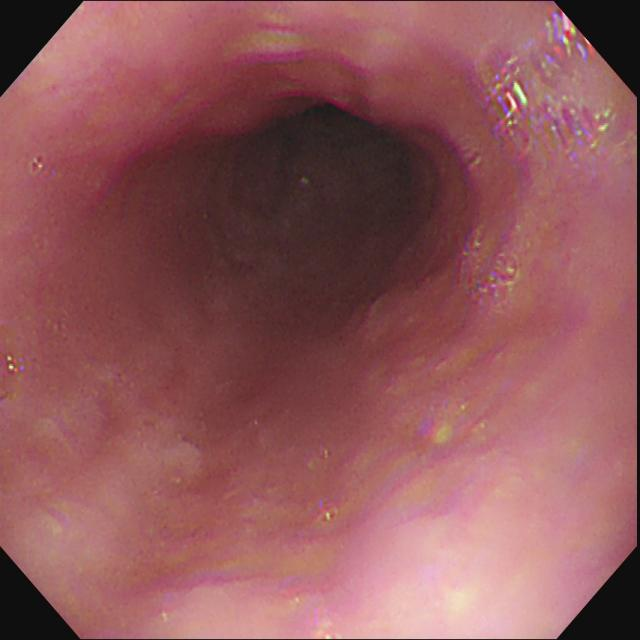U: (546, 10, 594, 67), (491, 66, 529, 130)
